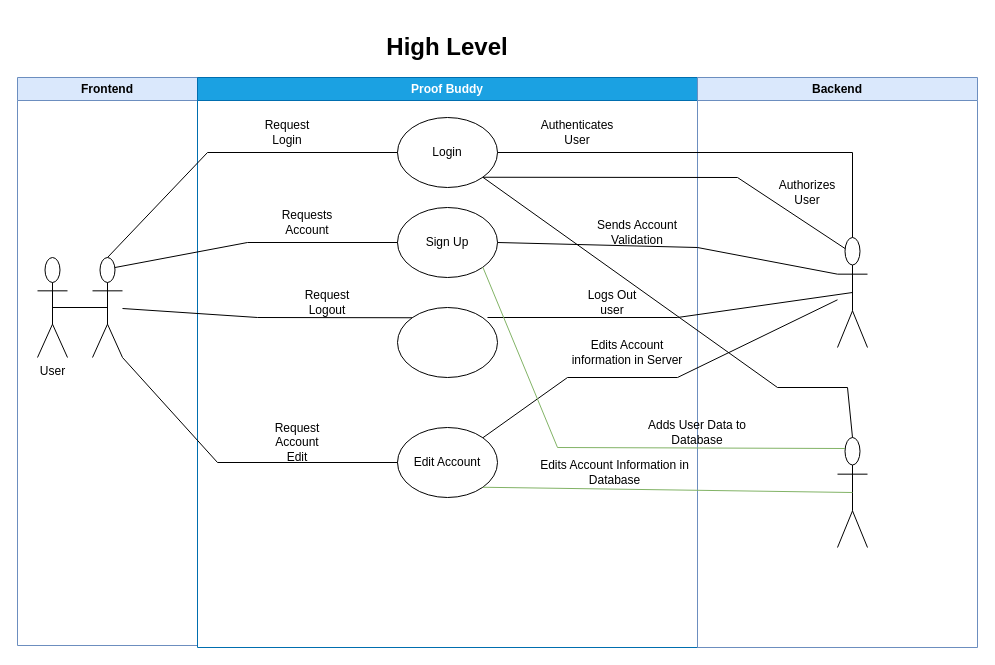
The diagram is 995 pixels wide and 665 high, and some of its shapes have lost their labels. The centre of each missing label's shape, as x and y in pixels:
Database: the point at 852,492
Logout: the point at 447,342
User API: the point at 852,292
Web Client: the point at 107,307
